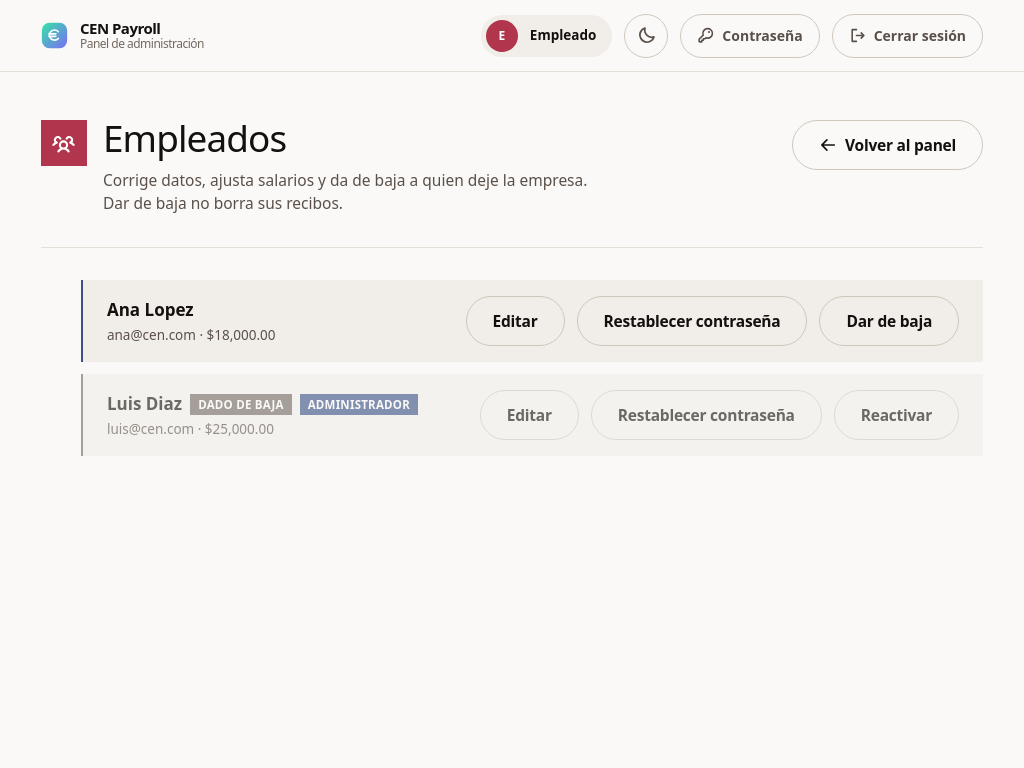
edicion › explica que el correo ya esta tomado
Click the button "Editar" in the row of "Ana Lopez" at (515, 321), box [466, 296, 564, 346]
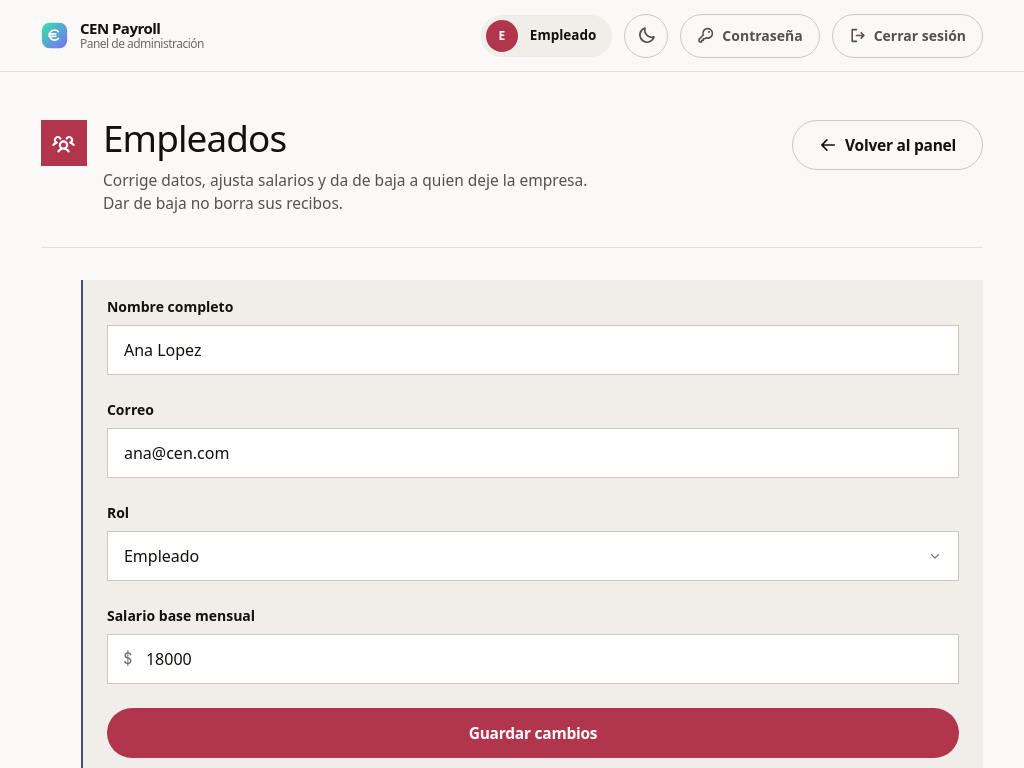
Click the button "Guardar cambios" at (533, 733), box [107, 708, 959, 758]
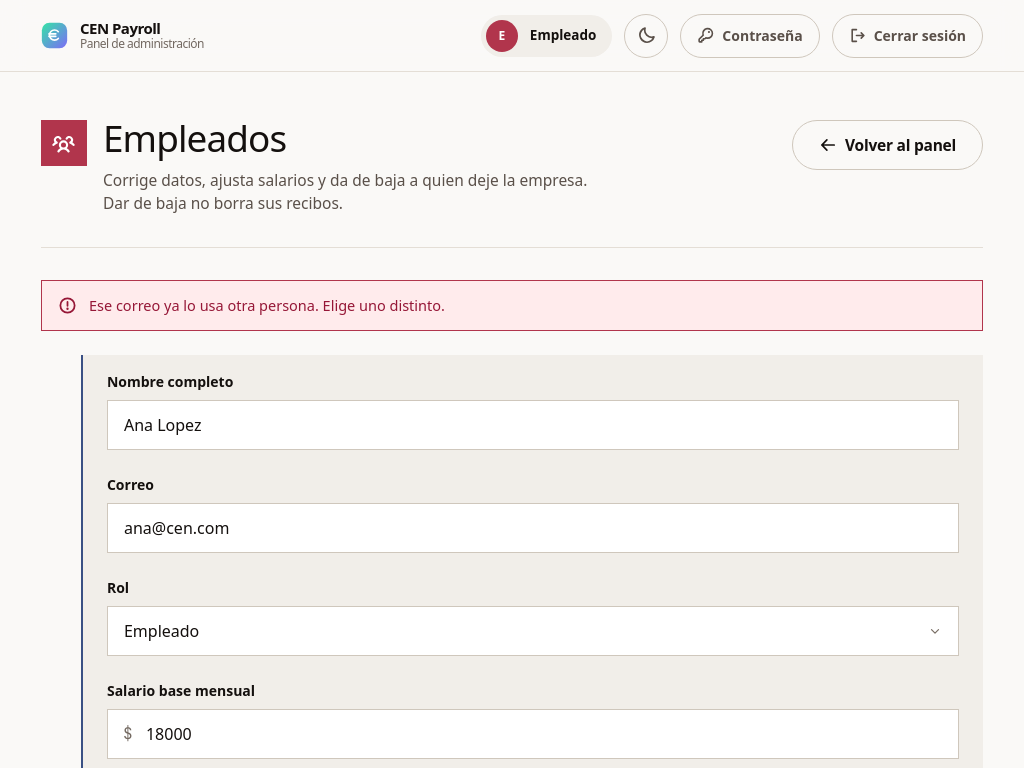
Expected: the text "Ese correo ya lo usa otra persona. Elige uno distinto." is shown, [89, 295, 445, 316]
